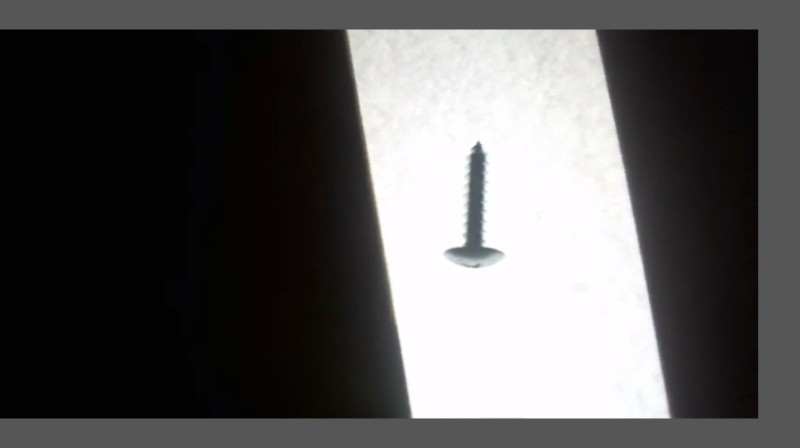S003: (438, 138, 508, 274)
